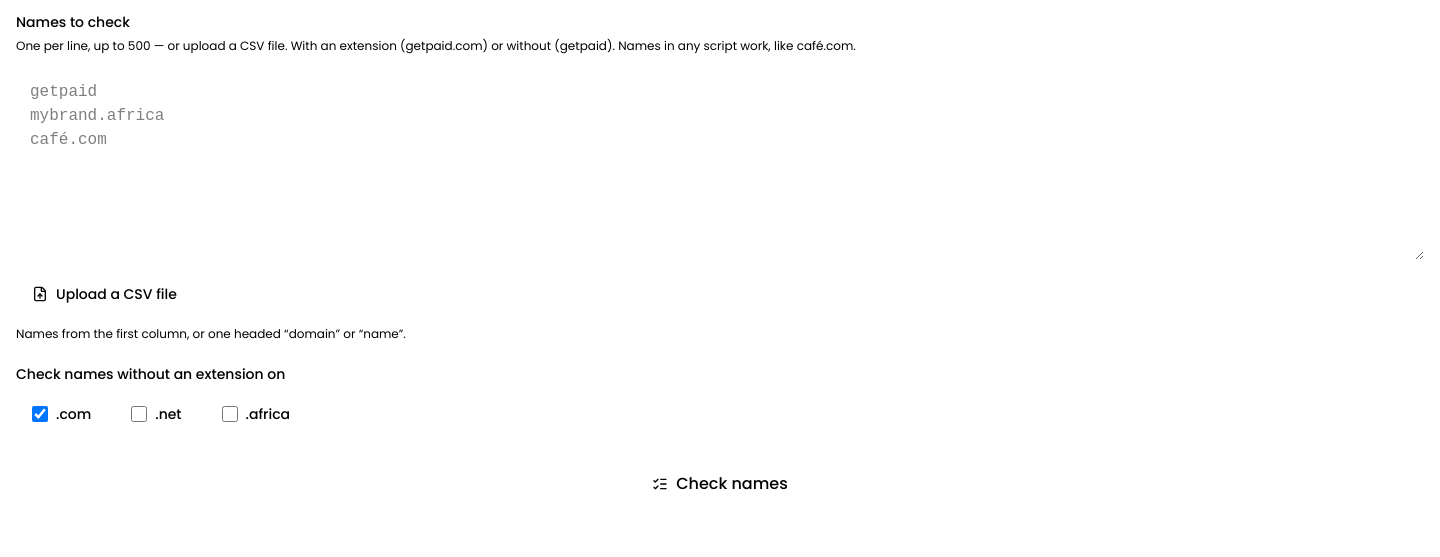
BulkSearchForm — refusals first (FR-S5) › refuses an empty list and says what to do
Click the button "Check names". click: point(720, 484)
box: [16,460,1424,508]
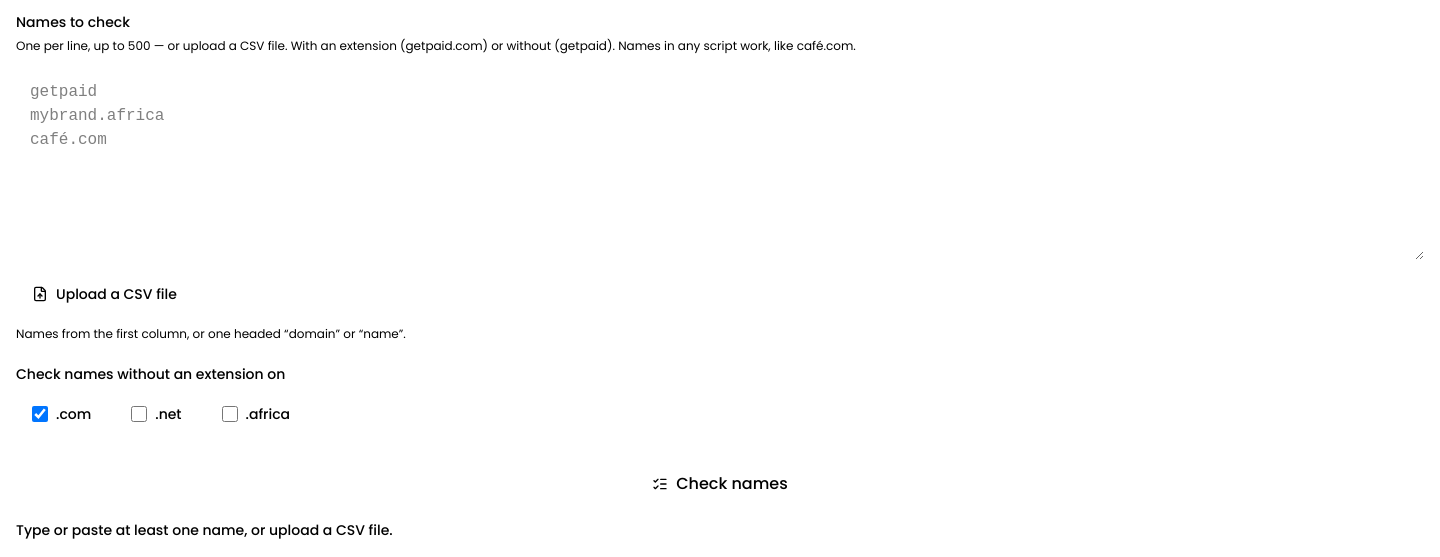
Now the message "Type or paste at least one name, or upload a CSV file." is shown, box [16,520,393,540]
